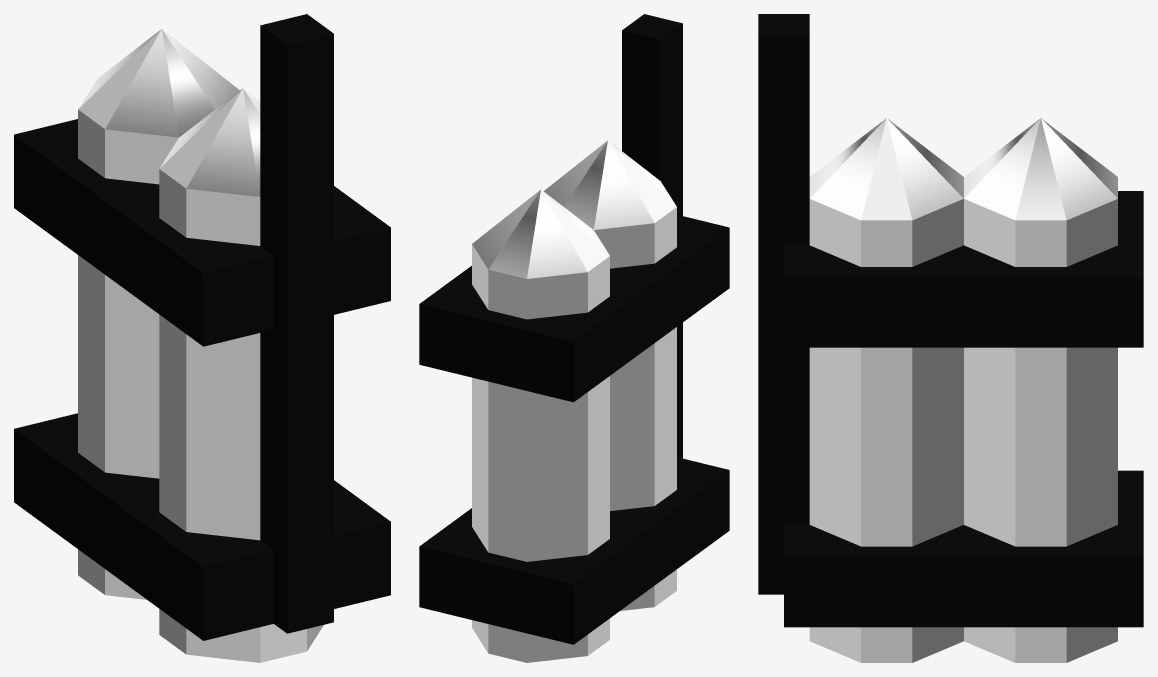
File: airtank.glb
3 renders of one model, left to right at view 1: azimuth 30°, elevation 25°; view 2: azimuth 150°, elevation 25°; view 3: azimuth 270°, elevation 25°, orthographic. The views are drawn at different scales.
Parts seen in each view (by area): view 1: newairtank; view 2: newairtank; view 3: newairtank.
Part boxes in pixels (left/top/right/bottom): newairtank: left=14, top=14, right=390, bottom=662; newairtank: left=419, top=14, right=729, bottom=662; newairtank: left=758, top=14, right=1143, bottom=662.
Bounding box in the file's own units: 2 × 6.5 × 3.75.
1 material, 1 textured.
